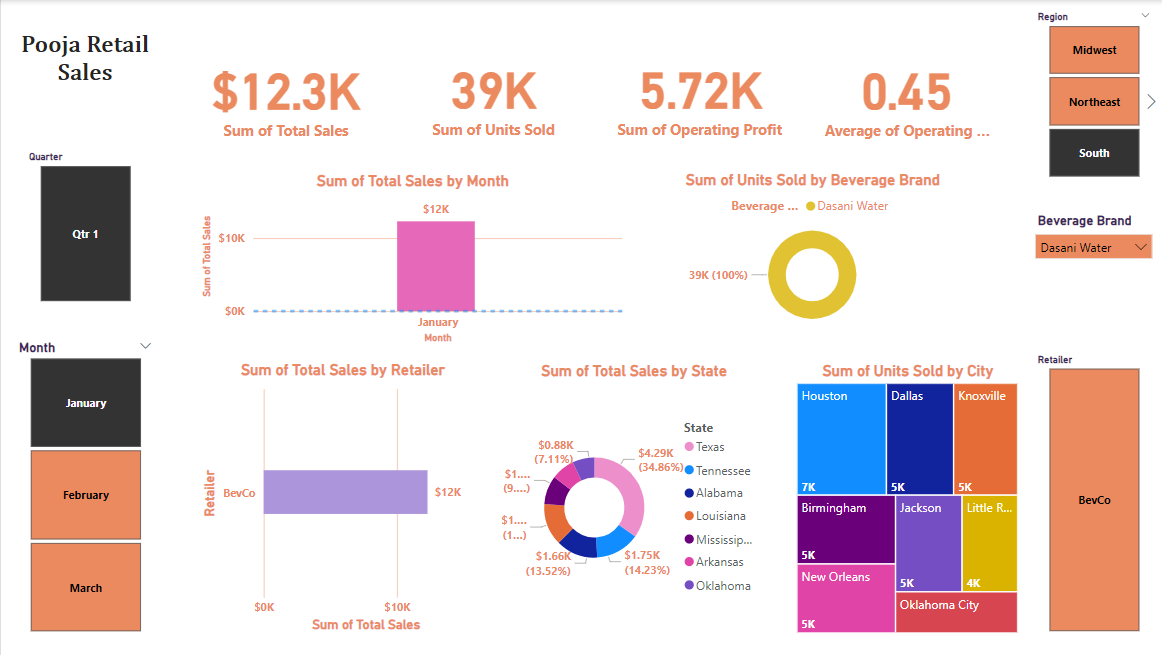

This screenshot's page, from the dashboard's own definition file:
{"tool":"powerbi","page":{"name":"Page 1","canvas":[1280,720],"ordinal":0},"visuals":[{"type":"slicer","fields":{"Values":["Sheet1.Invoice Date.Variation.Date Hierarchy.Month"]},"box":[0,360.3,184.3,346.4],"z":0},{"type":"slicer","fields":{"Values":["Sheet1.Region"]},"box":[1118.2,0,162.1,207.8],"z":1000},{"type":"slicer","fields":{"Values":["Sheet1.Invoice Date.Variation.Date Hierarchy.Quarter"]},"box":[11,153.7,161.9,190.7],"z":2000},{"type":"slicer","fields":{"Values":["Sheet1.Retailer"]},"box":[1118.4,376,161.9,330.7],"z":3000},{"type":"slicer","fields":{"Values":["Sheet1.Beverage Brand"]},"box":[1118.2,220.3,162.1,124.7],"z":4000},{"type":"card","fields":{"Values":["Sheet1.Total Sales"]},"box":[208.6,39.8,208.6,130.4],"z":5000},{"type":"card","fields":{"Values":["Sheet1.Units Sold"]},"box":[435.9,38.4,208.6,130.4],"z":6000},{"type":"card","fields":{"Values":["Sheet1.Operating Profit"]},"box":[663.2,38.9,208.6,130.4],"z":7000},{"type":"card","fields":{"Values":["Sheet1.Operating Margin"]},"box":[890.6,39.3,208.6,130.4],"z":8000},{"type":"columnChart","fields":{"Category":["Sheet1.Invoice Date.Variation.Date Hierarchy.Month"],"Y":["Sheet1.Total Sales"]},"box":[208.6,181.1,485.8,207.2],"z":9000},{"type":"donutChart","fields":{"Category":["Sheet1.Beverage Brand"],"Y":["Sheet1.Units Sold"]},"box":[710.8,179.8,359.5,196.2],"z":10000},{"type":"barChart","fields":{"Category":["Sheet1.Retailer"],"Y":["Sheet1.Total Sales"]},"box":[208.6,388.3,332.1,317],"z":11000},{"type":"treemap","fields":{"Group":["Sheet1.City"],"Values":["Sheet1.Units Sold"]},"box":[861.8,389.7,266.2,317],"z":12000},{"type":"donutChart","fields":{"Category":["Sheet1.State"],"Y":["Sheet1.Total Sales"]},"box":[540.7,389.7,307.4,315.6],"z":13000},{"type":"textbox","box":[11,28.8,161.9,87.8],"z":14000}]}

Visuals, with their boxes in screenshot pixels (x1, y1, x2, y2), scaled from the page's 1280x720 canvas onto the 1162x655 screenshot:
slicer - Sheet1.Invoice Date.Variation.Date Hierarchy.Month: bbox(0, 328, 167, 643)
slicer - Sheet1.Region: bbox(1015, 0, 1161, 189)
slicer - Sheet1.Invoice Date.Variation.Date Hierarchy.Quarter: bbox(10, 140, 157, 313)
slicer - Sheet1.Retailer: bbox(1015, 342, 1161, 643)
slicer - Sheet1.Beverage Brand: bbox(1015, 200, 1161, 314)
card - Sheet1.Total Sales: bbox(189, 36, 379, 155)
card - Sheet1.Units Sold: bbox(396, 35, 585, 154)
card - Sheet1.Operating Profit: bbox(602, 35, 791, 154)
card - Sheet1.Operating Margin: bbox(808, 36, 998, 154)
columnChart - Sheet1.Invoice Date.Variation.Date Hierarchy.Month x Sheet1.Total Sales: bbox(189, 165, 630, 353)
donutChart - Sheet1.Beverage Brand x Sheet1.Units Sold: bbox(645, 164, 972, 342)
barChart - Sheet1.Retailer x Sheet1.Total Sales: bbox(189, 353, 491, 642)
treemap - Sheet1.City x Sheet1.Units Sold: bbox(782, 355, 1024, 643)
donutChart - Sheet1.State x Sheet1.Total Sales: bbox(491, 355, 770, 642)
textbox: bbox(10, 26, 157, 106)
